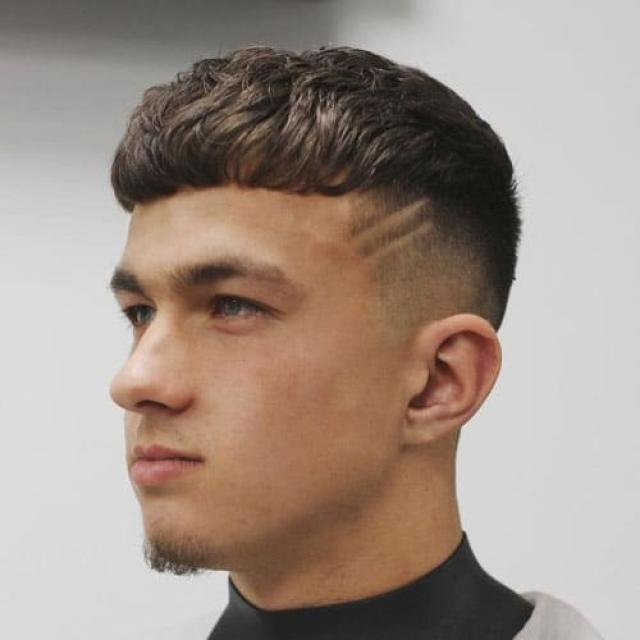human: (75, 37, 640, 639)
